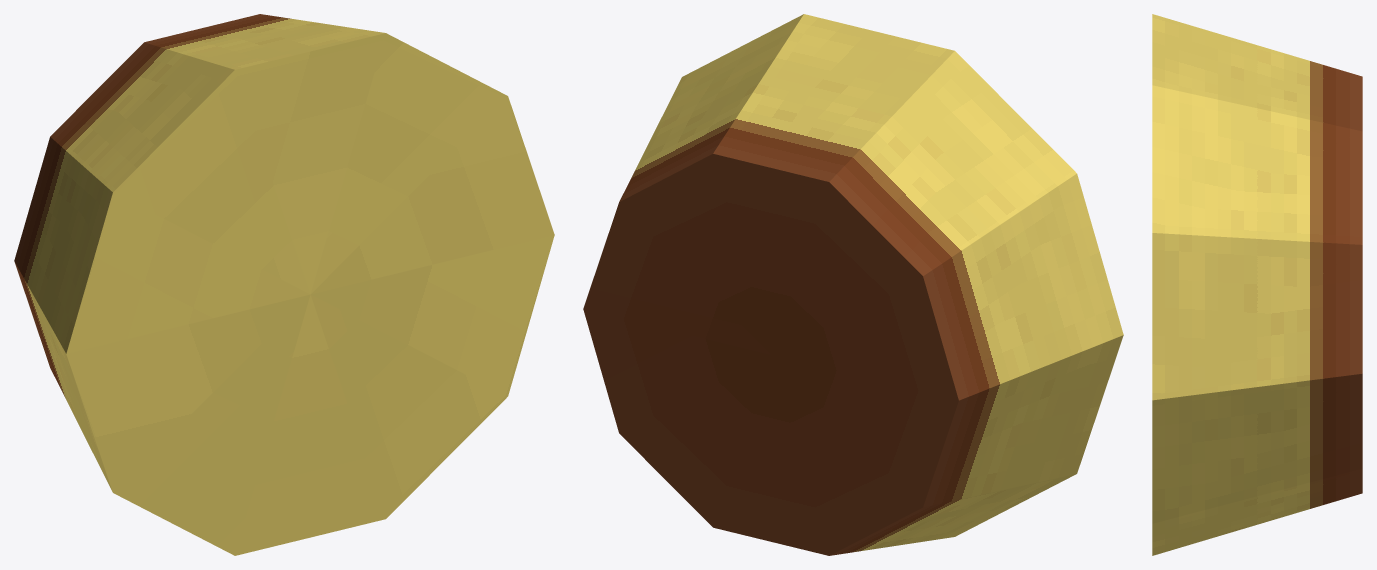
File: Flan.fbx
3 views of the same model, side by side, from view 1: azimuth 30°, elevation 25°; view 2: azimuth 150°, elevation 25°; view 3: azimuth 270°, elevation 25° (orthographic). The views are drawn at different scales.
Visible parts, largest first — view 1: Flan; view 2: Flan; view 3: Flan.
Boxes of the visible parts, x1=… form: Flan: x1=14, y1=14, x2=554, y2=555; Flan: x1=583, y1=14, x2=1123, y2=555; Flan: x1=1152, y1=14, x2=1362, y2=555.
Size of the model in its own units: 130 by 124 by 50.
1 material, 1 textured.
